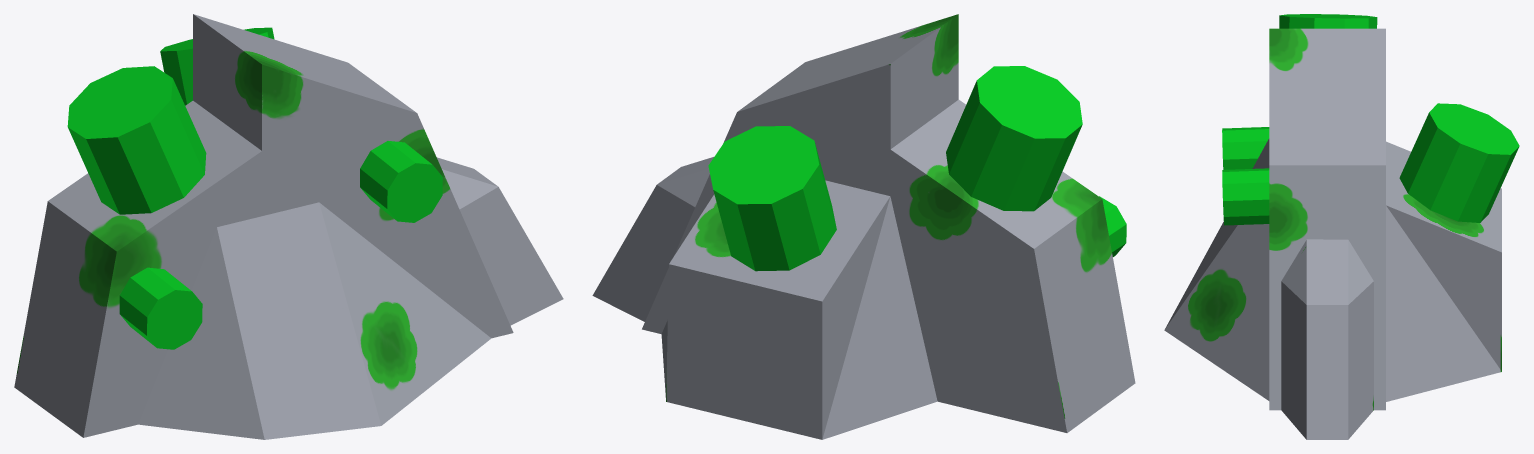
File: EsmeraldaMusgoTipo2.fbx
3 renders of one model, left to right at view 1: azimuth 30°, elevation 25°; view 2: azimuth 150°, elevation 25°; view 3: azimuth 270°, elevation 25°, orthographic. The views are drawn at different scales.
Parts seen in each view (by area): view 1: base.040, esmeralda.010, esmeralda.011, esmeralda.012, esmeralda.013; view 2: base.040, esmeralda.010, esmeralda.013, esmeralda.011; view 3: base.040, esmeralda.013, esmeralda.012, esmeralda.011, esmeralda.010.
Part boxes in pixels (bbox=[...]): base.040: bbox=[14, 14, 563, 439]; esmeralda.010: bbox=[67, 66, 206, 214]; esmeralda.011: bbox=[119, 267, 202, 349]; esmeralda.012: bbox=[360, 141, 442, 222]; esmeralda.013: bbox=[160, 27, 274, 105]; base.040: bbox=[592, 14, 1135, 439]; esmeralda.010: bbox=[946, 66, 1082, 211]; esmeralda.013: bbox=[708, 126, 836, 271]; esmeralda.011: bbox=[1099, 196, 1126, 256]; base.040: bbox=[1164, 28, 1501, 439]; esmeralda.013: bbox=[1399, 103, 1519, 222]; esmeralda.012: bbox=[1222, 168, 1269, 225]; esmeralda.011: bbox=[1222, 127, 1269, 169]; esmeralda.010: bbox=[1279, 14, 1377, 28].
Bounding box in the file's own units: 140 × 87.89 × 102.
